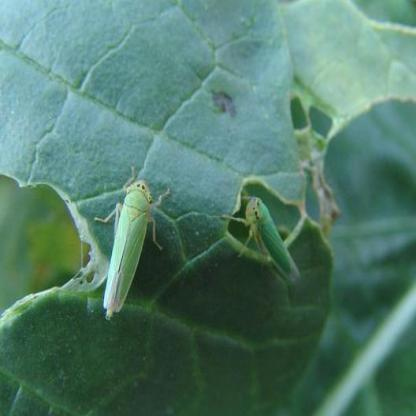Green-Leafhopper: (93, 167, 170, 326), (223, 191, 302, 282)
